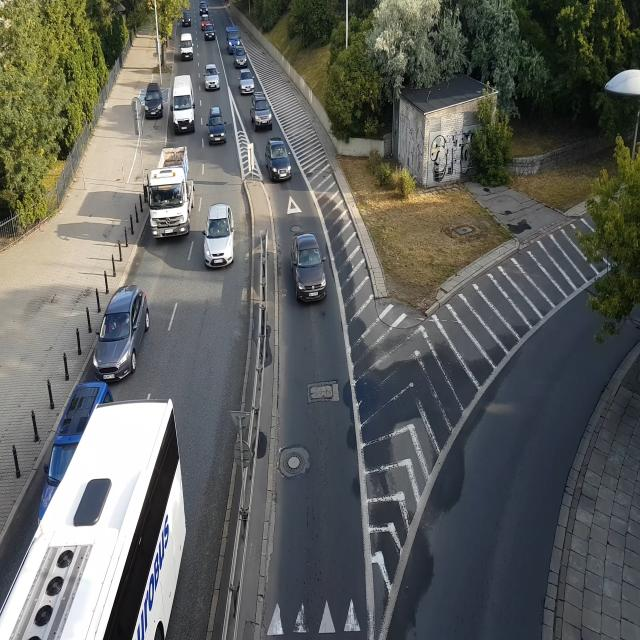bus: (90, 410, 184, 640)
car: (92, 280, 140, 363), (294, 567, 342, 640), (291, 238, 327, 302), (204, 207, 238, 272), (172, 74, 197, 136), (36, 452, 53, 514), (250, 96, 275, 133), (267, 145, 292, 181), (207, 108, 227, 144), (144, 89, 166, 118), (203, 60, 222, 93), (179, 31, 194, 61), (238, 72, 256, 96), (227, 24, 242, 50), (202, 24, 216, 40), (233, 50, 247, 64), (182, 6, 191, 25), (199, 8, 210, 18), (198, 0, 207, 8)
truck: (148, 145, 192, 233)
